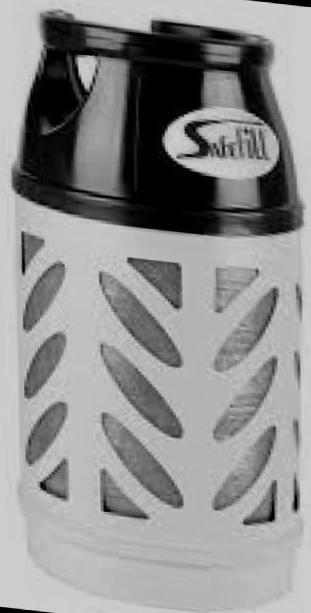cylinder: (0, 1, 311, 613)
